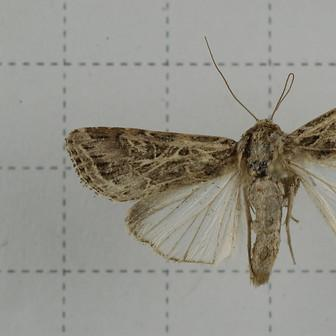Spodoptera litura: (65, 36, 336, 289)
